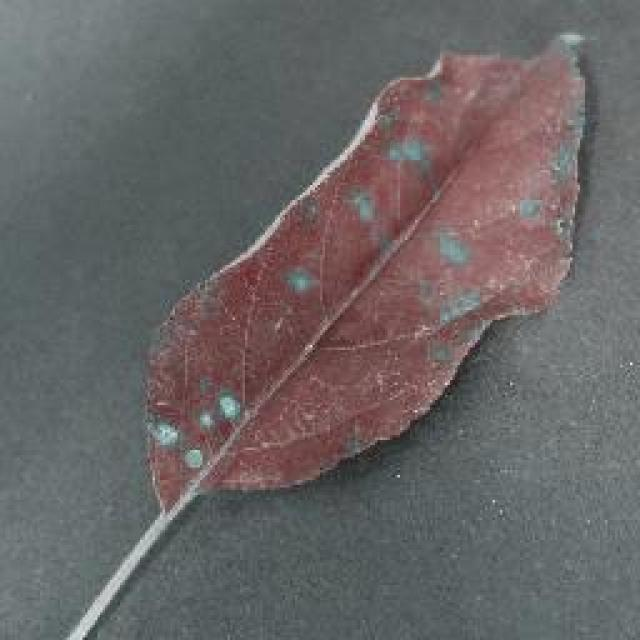apple cedar apple rust: (138, 28, 590, 518)
